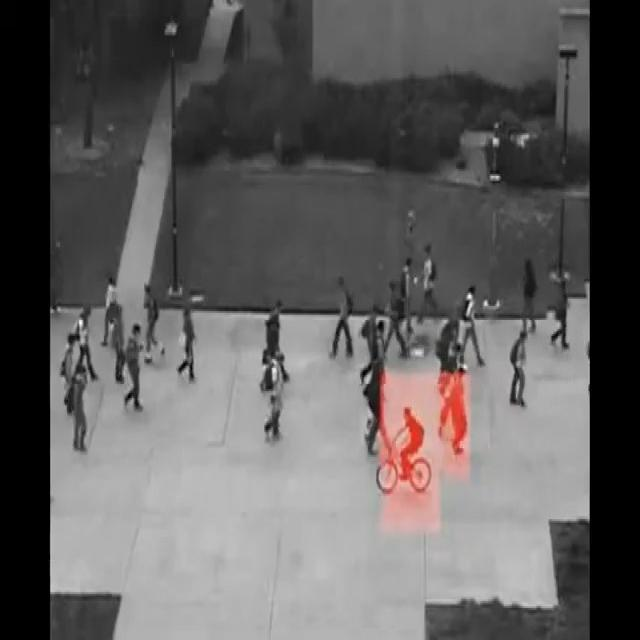anamoly: (369, 403, 454, 498)
